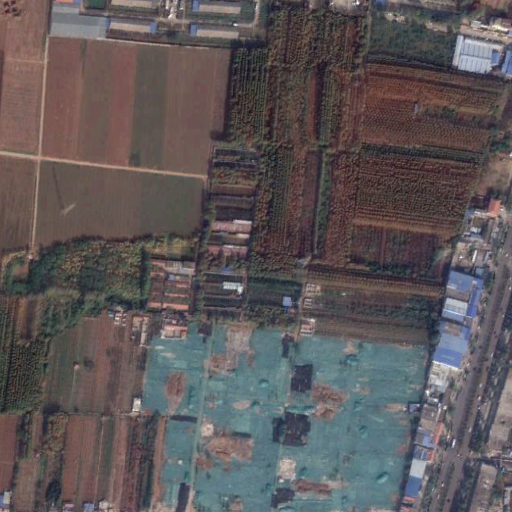cw: (142, 323, 434, 511)
